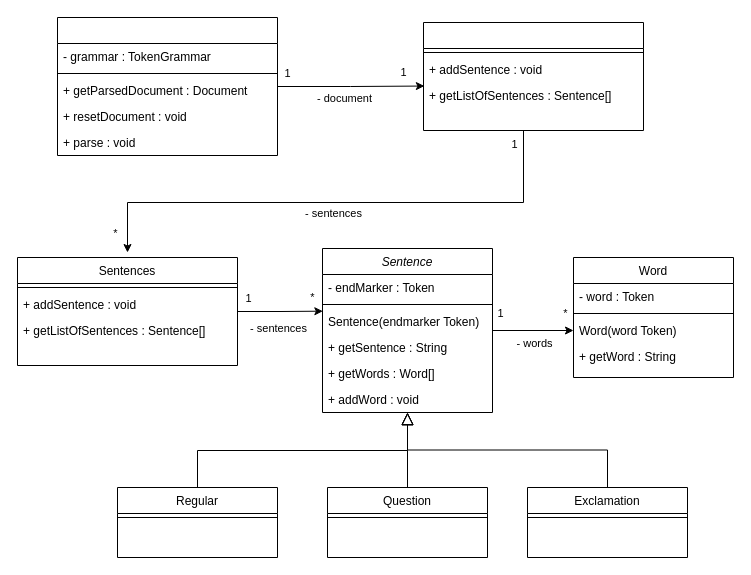
Image size: 751x575. Some labels were removed from this diagram. The box of each missing label's shape, as (x1, y1, x2, y2) in pixels:
Document: (422, 22, 644, 130)
DocumentParser: (56, 16, 278, 156)
